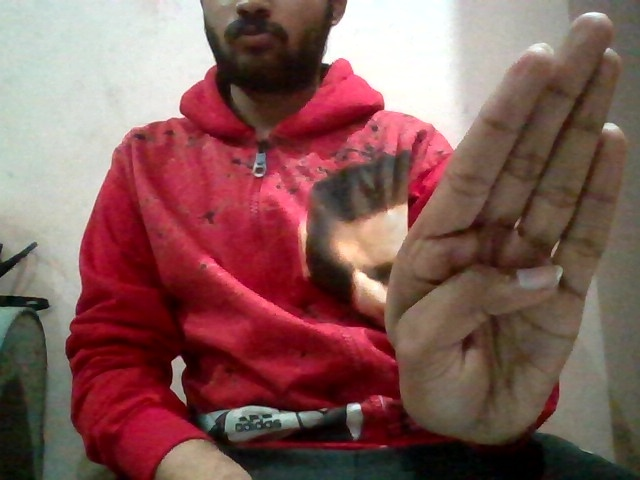B: (372, 7, 634, 452)
